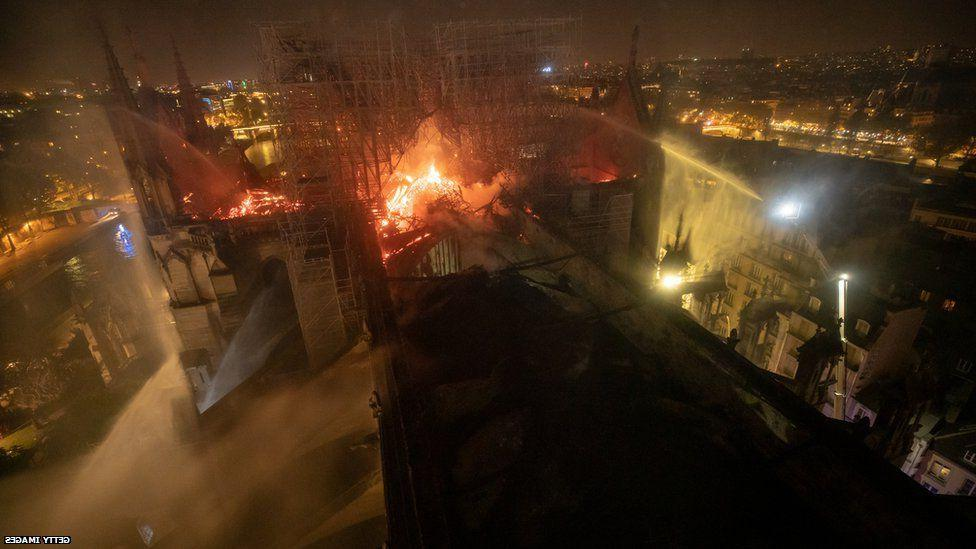fire: (370, 142, 498, 236), (207, 183, 296, 220)
